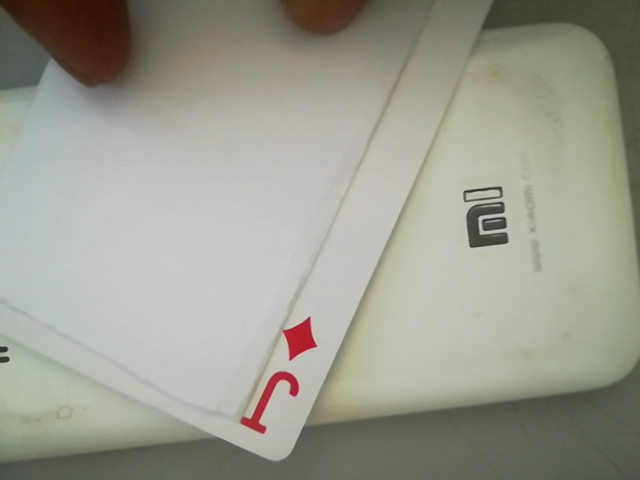fk j: (243, 311, 325, 445)
